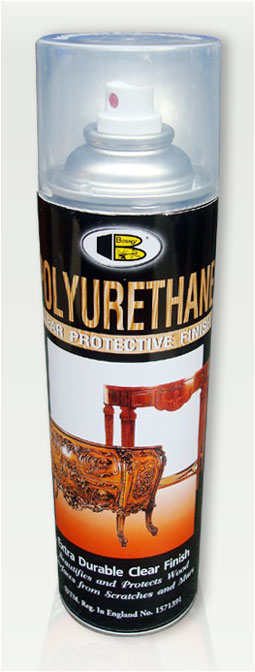Aerosol_cans: (32, 24, 228, 642)
